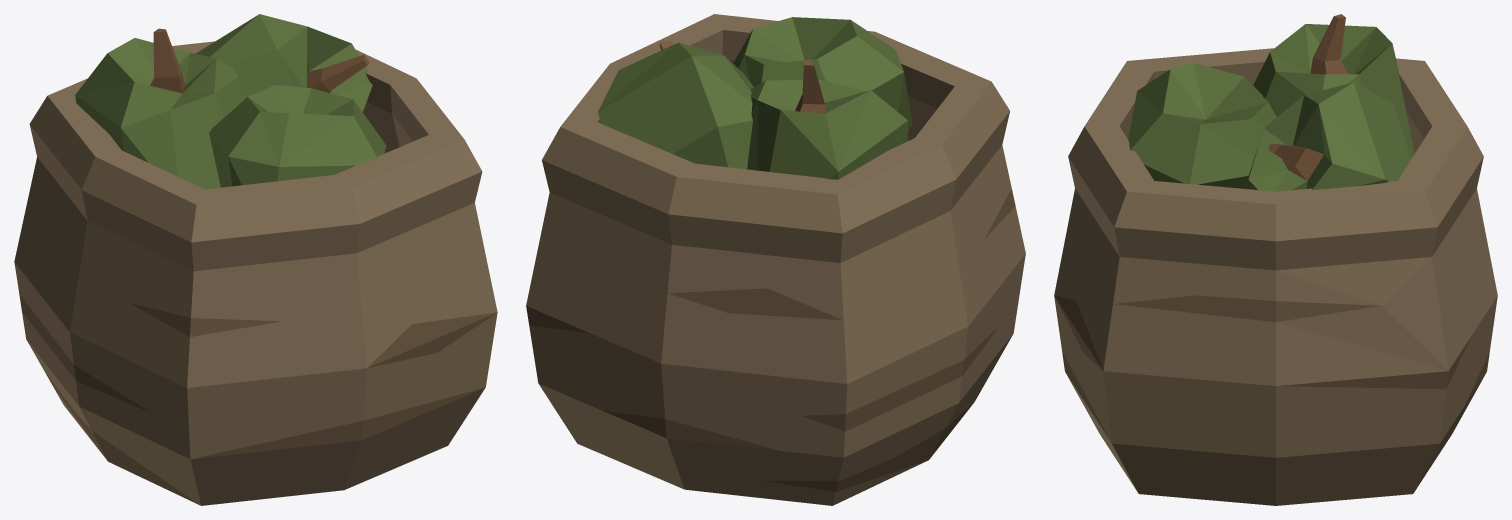
Rendered from SM_Prop_Basket_03.gltf.
The picture shows the model from 3 angles, left to right: view 1: azimuth 30°, elevation 25°; view 2: azimuth 150°, elevation 25°; view 3: azimuth 270°, elevation 25°; orthographic projection. The views are drawn at different scales.
Visible parts, largest first — view 1: SM_Prop_Basket_03; view 2: SM_Prop_Basket_03; view 3: SM_Prop_Basket_03.
Boxes of the visible parts, left/top/right/bottom form: SM_Prop_Basket_03: left=14, top=14, right=497, bottom=505; SM_Prop_Basket_03: left=526, top=14, right=1025, bottom=505; SM_Prop_Basket_03: left=1054, top=14, right=1497, bottom=505.
Bounding box in the file's own units: 0.347 × 0.3471 × 0.3589.
1 material, 1 textured.
